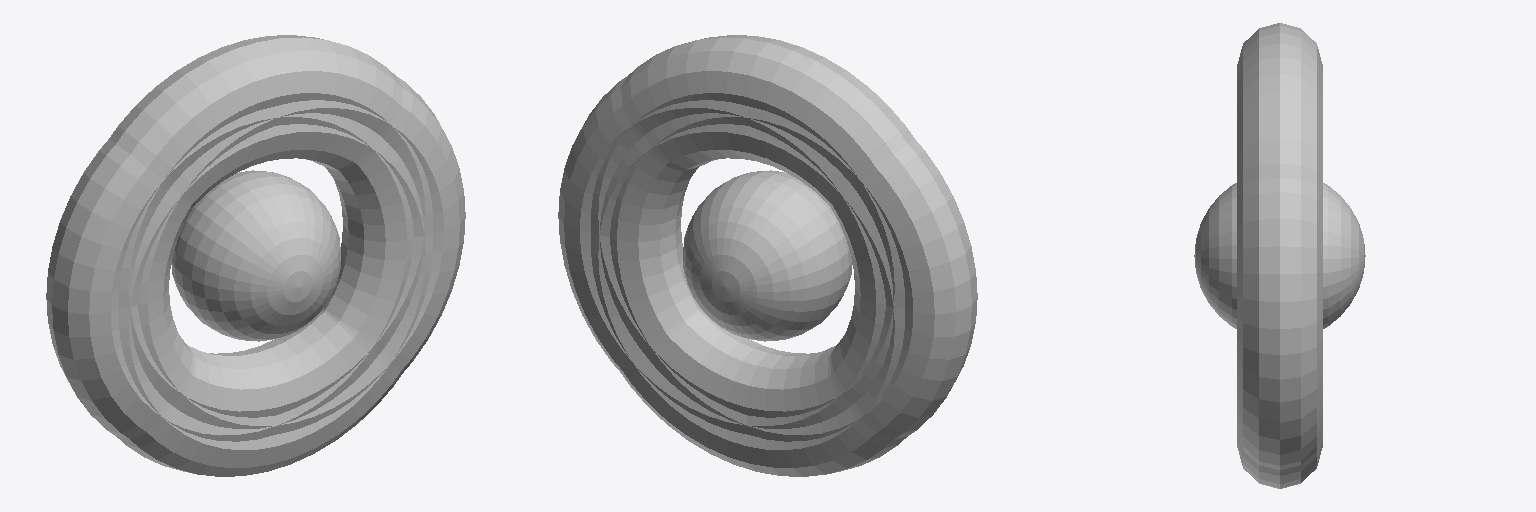
The model's file is palm.obj.
3 renders of one model, left to right at view 1: azimuth 30°, elevation 25°; view 2: azimuth 150°, elevation 25°; view 3: azimuth 270°, elevation 25°, orthographic.
Parts seen in each view (by area): view 1: Torus_003_Torus.003; view 2: Torus_003_Torus.003; view 3: Torus_003_Torus.003.
Boxes of the visible parts, box(x1,y1,x2,y2) form: Torus_003_Torus.003: box(46, 35, 465, 476); Torus_003_Torus.003: box(558, 35, 977, 476); Torus_003_Torus.003: box(1194, 23, 1365, 488).
Bounding box in the file's own units: 2.75 × 2.75 × 1.